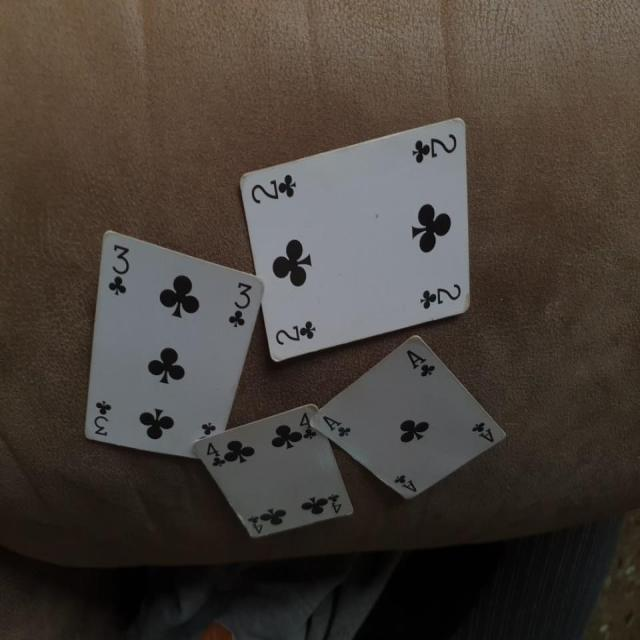2 Trefoils: (238, 113, 476, 364)
3 Trefoils: (83, 228, 266, 462)
4 Trefoils: (193, 398, 356, 540)
A Trefoils: (309, 333, 508, 498)
